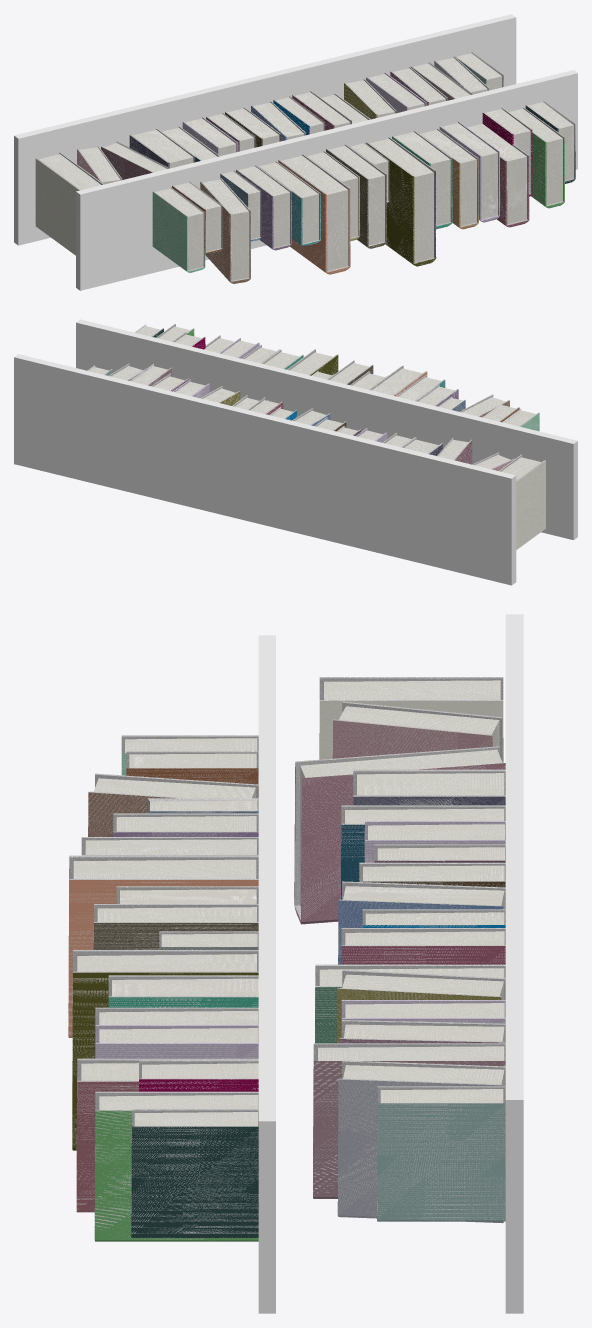
3 views of the same model, one above another, from view 1: azimuth 30°, elevation 25°; view 2: azimuth 150°, elevation 25°; view 3: azimuth 270°, elevation 25° (orthographic). The views are drawn at different scales.
Visible parts, largest first — view 1: books; view 2: books; view 3: books.
Boxes of the visible parts, x1,y1,x2,y2 form: books: [14, 14, 577, 290]; books: [14, 319, 577, 585]; books: [68, 614, 523, 1313].
Bounding box in the file's own units: 52.2 × 11.99 × 20.67.
